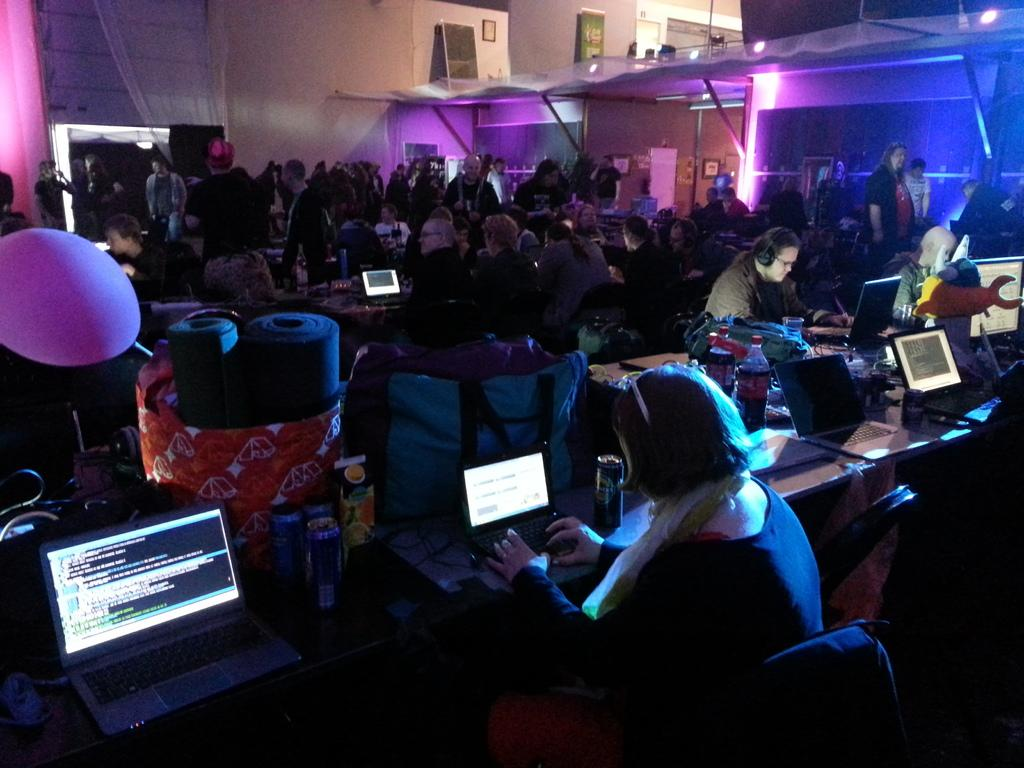Laptop: (35, 500, 302, 742), (771, 353, 941, 463), (456, 442, 579, 568), (887, 326, 996, 427), (810, 276, 902, 349), (360, 267, 411, 307)
